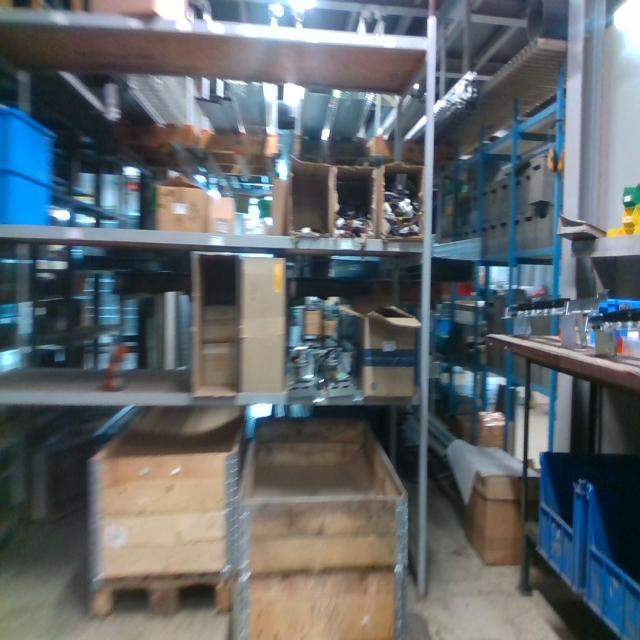pallet: (88, 567, 233, 622)
small_load_carrier: (538, 450, 639, 587), (584, 481, 638, 637)
